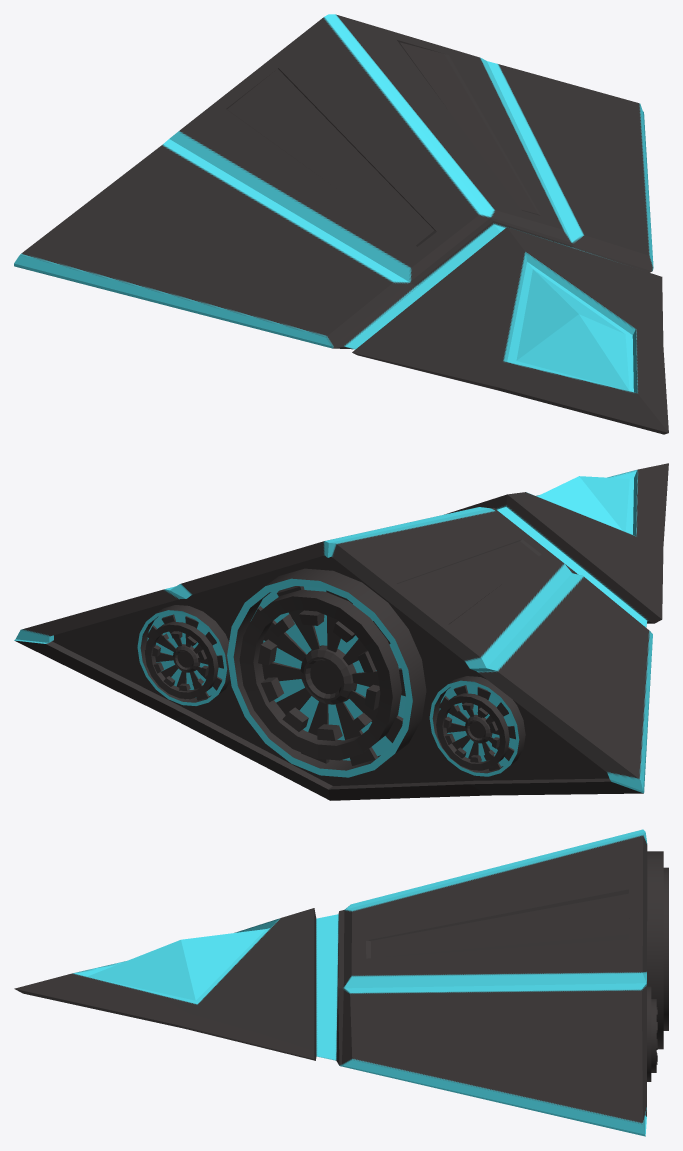
File: PlayerShip.fbx
3 renders of one model, top to bottom at view 1: azimuth 30°, elevation 25°; view 2: azimuth 150°, elevation 25°; view 3: azimuth 270°, elevation 25°, orthographic. The views are drawn at different scales.
Visible parts, largest first — view 1: ship1; view 2: ship1; view 3: ship1.
Boxes of the visible parts, x1=… form: ship1: x1=14, y1=14, x2=668, y2=434; ship1: x1=14, y1=463, x2=668, y2=800; ship1: x1=14, y1=829, x2=668, y2=1136.
Bounding box in the file's own units: 0.0735 × 0.0289 × 0.0713.
